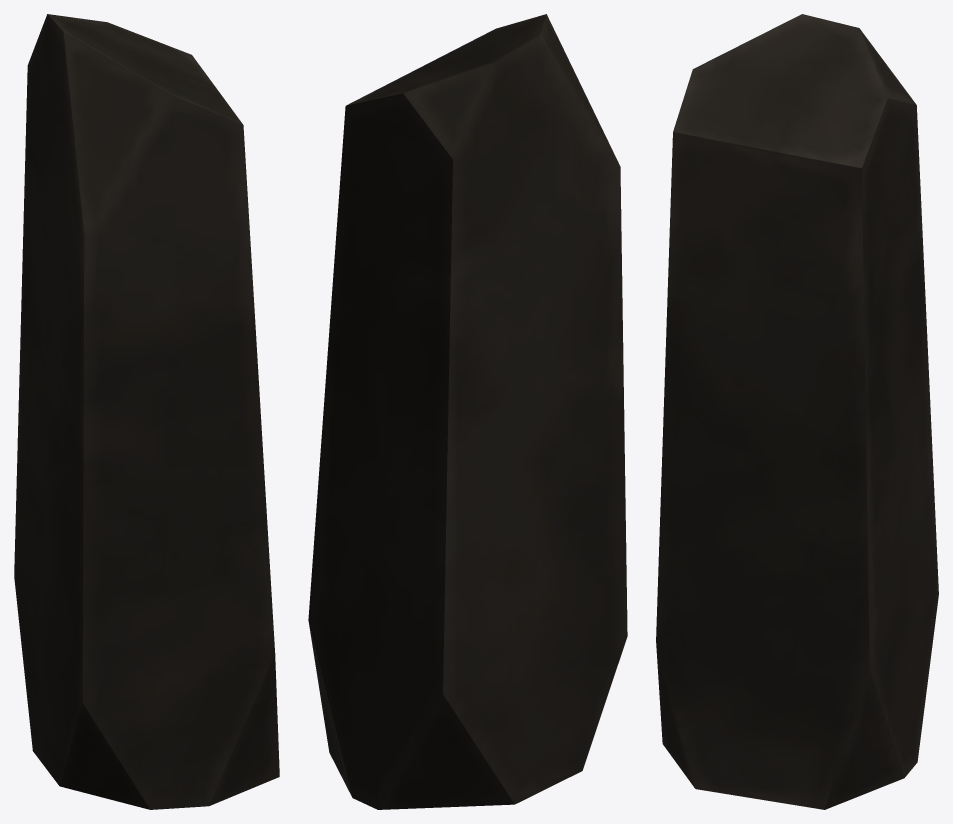
The model's file is Stone5.FBX.
3 views of the same model, side by side, from view 1: azimuth 30°, elevation 25°; view 2: azimuth 150°, elevation 25°; view 3: azimuth 270°, elevation 25° (orthographic). The views are drawn at different scales.
Visible parts, largest first — view 1: Stone5; view 2: Stone5; view 3: Stone5.
Boxes of the visible parts, left/top/right/bottom form: Stone5: left=14, top=14, right=279, bottom=809; Stone5: left=308, top=14, right=627, bottom=809; Stone5: left=656, top=14, right=938, bottom=809.
Size of the model in its own units: 2.15 by 6.7 by 2.44.
